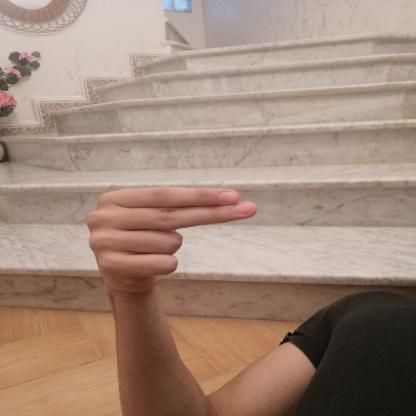AYN: (70, 175, 278, 305)
